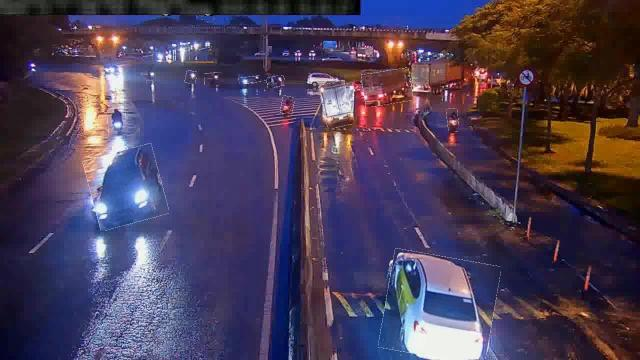Bike: (108, 109, 126, 137), (447, 108, 459, 132), (267, 76, 285, 88), (282, 96, 294, 114), (205, 74, 222, 86), (240, 76, 262, 84), (186, 70, 197, 84)
Car: (382, 252, 498, 360), (86, 147, 166, 227)
Truck: (363, 70, 413, 106), (321, 82, 352, 128)
